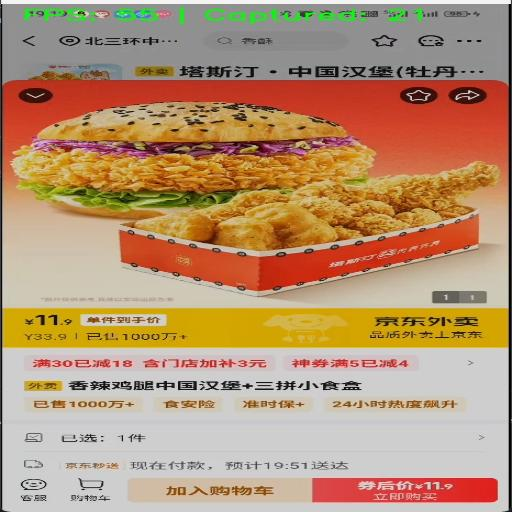back: (10, 32, 44, 52)
close: (16, 87, 60, 105)
